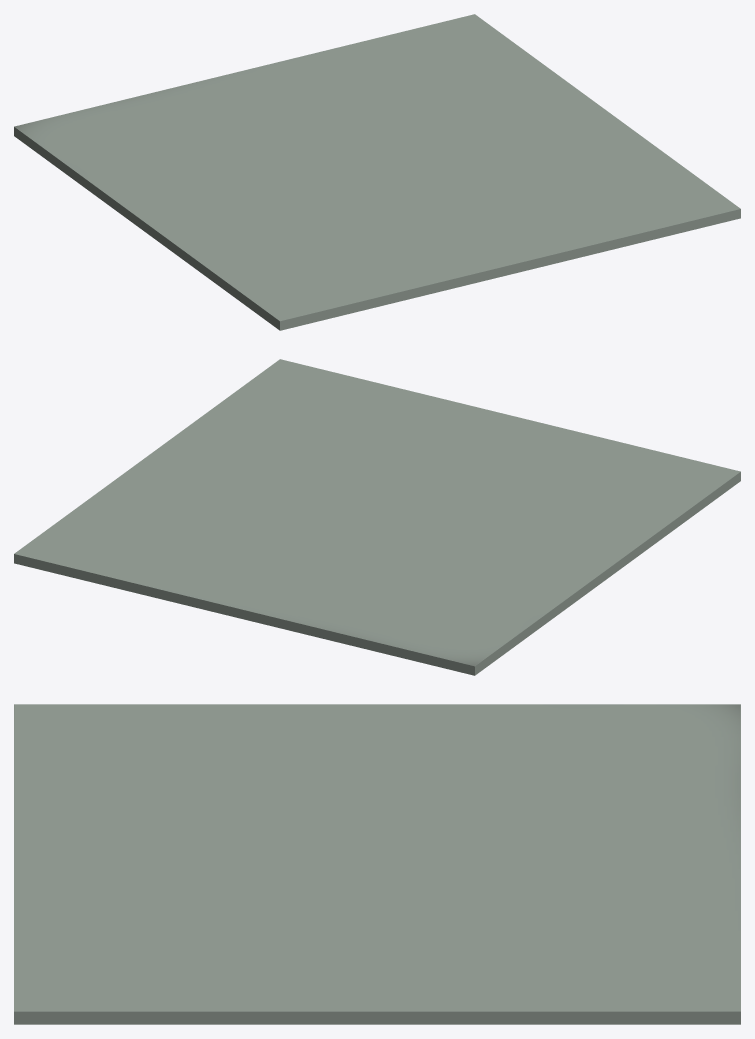
Rendered from road.009.obj.
3 renders of one model, top to bottom at view 1: azimuth 30°, elevation 25°; view 2: azimuth 150°, elevation 25°; view 3: azimuth 270°, elevation 25°, orthographic. The views are drawn at different scales.
Visible parts, largest first — view 1: Road.009; view 2: Road.009; view 3: Road.009.
Boxes of the visible parts, x1,y1,x2,y2 form: Road.009: (14,14,740,330); Road.009: (14,359,740,675); Road.009: (14,704,740,1024).
Size of the model in its own units: 2 by 0.0393 by 2.
1 material, 1 textured.
